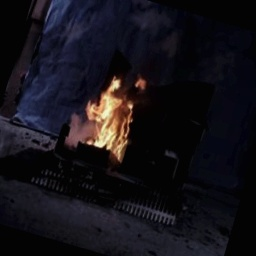fire: (70, 59, 154, 162)
